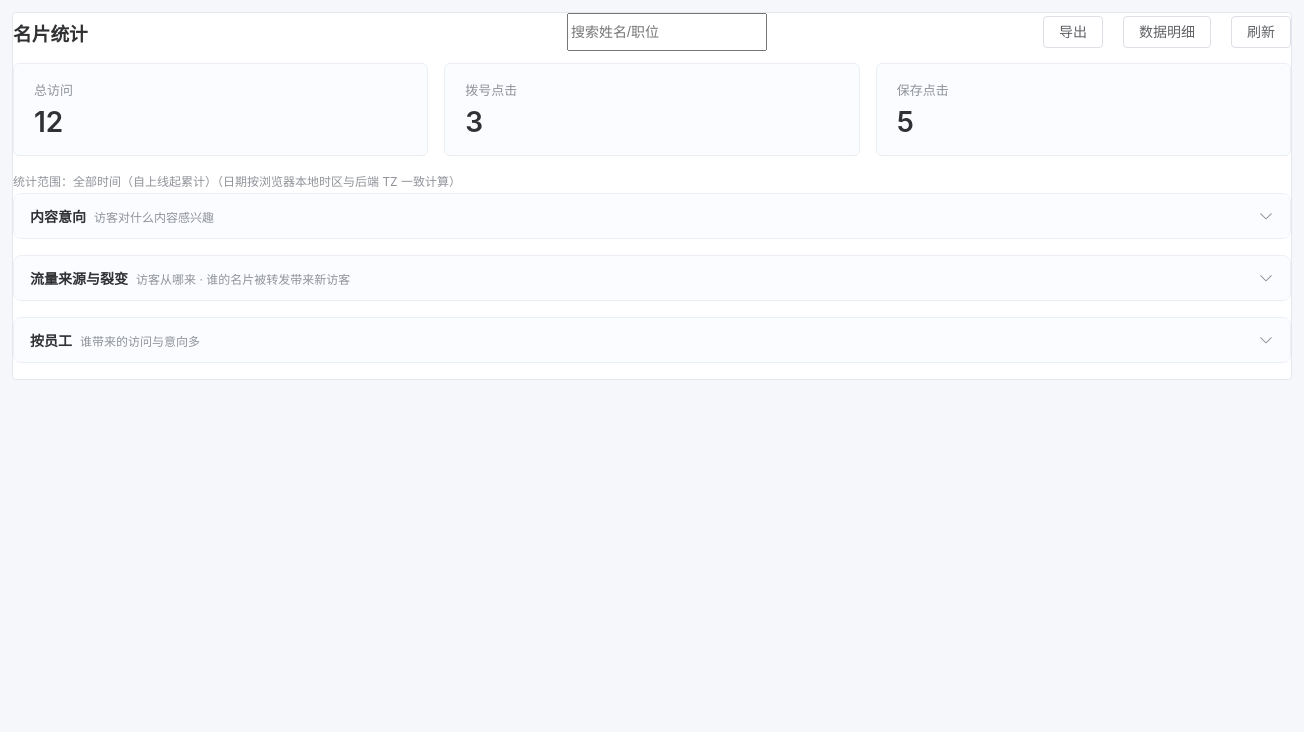
Test: Stats › 内容意向折叠区默认收起，点标题展开（方案A 同页分区）
 点分区标题展开
Click the 1st element with class "fold-head" at [652, 216], box [14,194,1290,238]
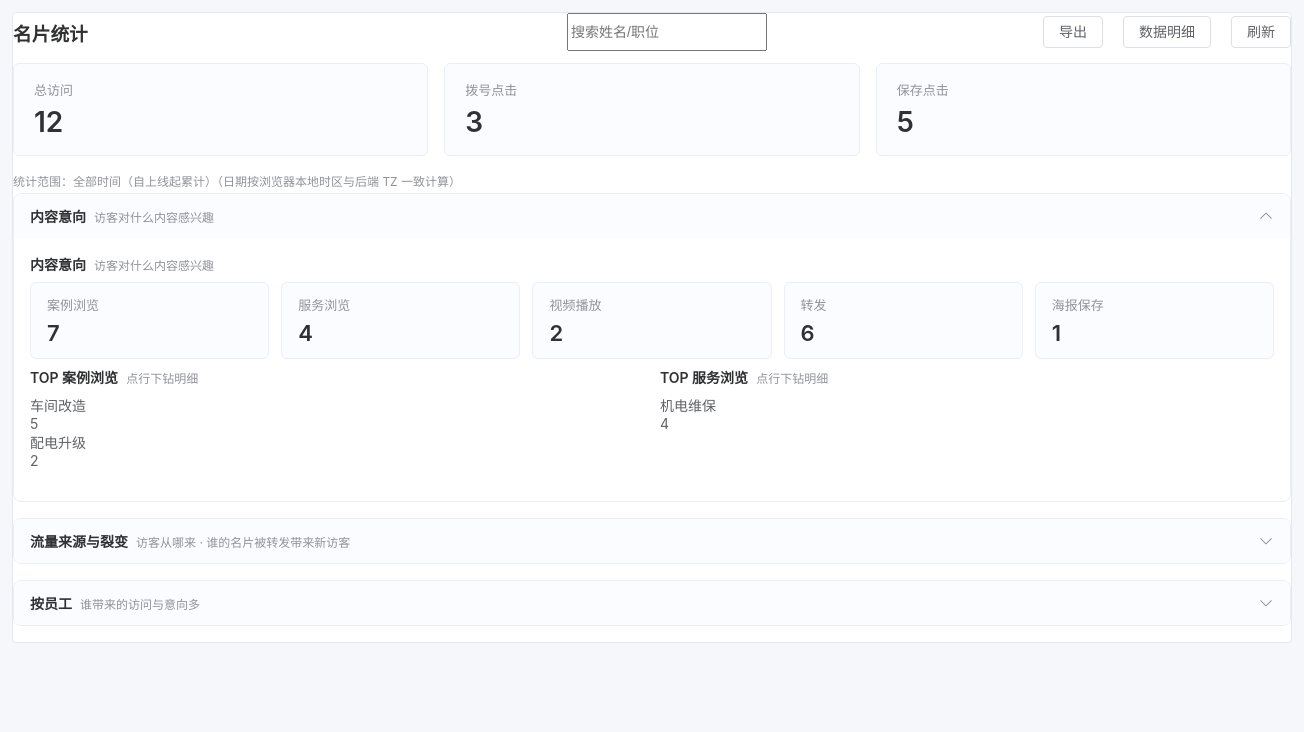
Expected: the element with class "intent-block" is shown, [30,254,1274,359]
